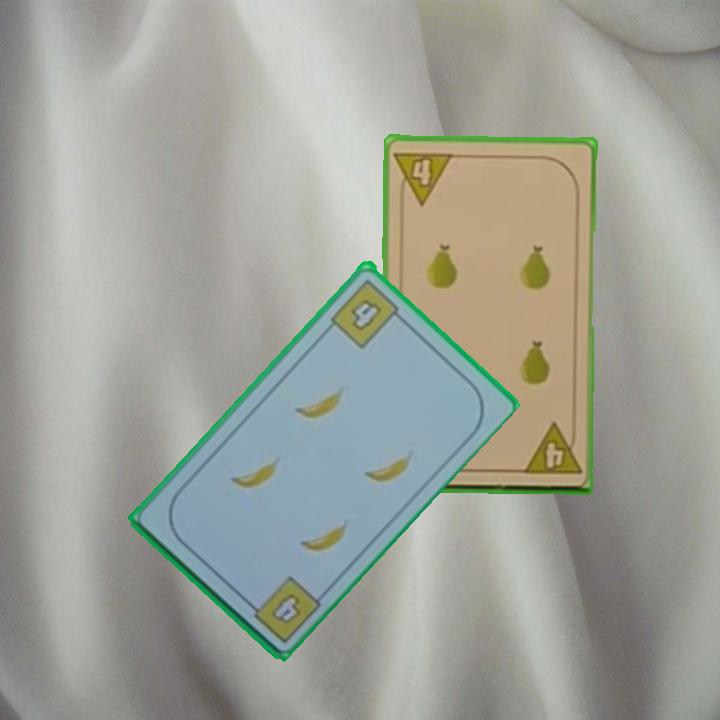4b: (326, 274, 408, 351), (240, 572, 324, 646)
4p: (391, 147, 456, 208), (519, 420, 584, 478)
